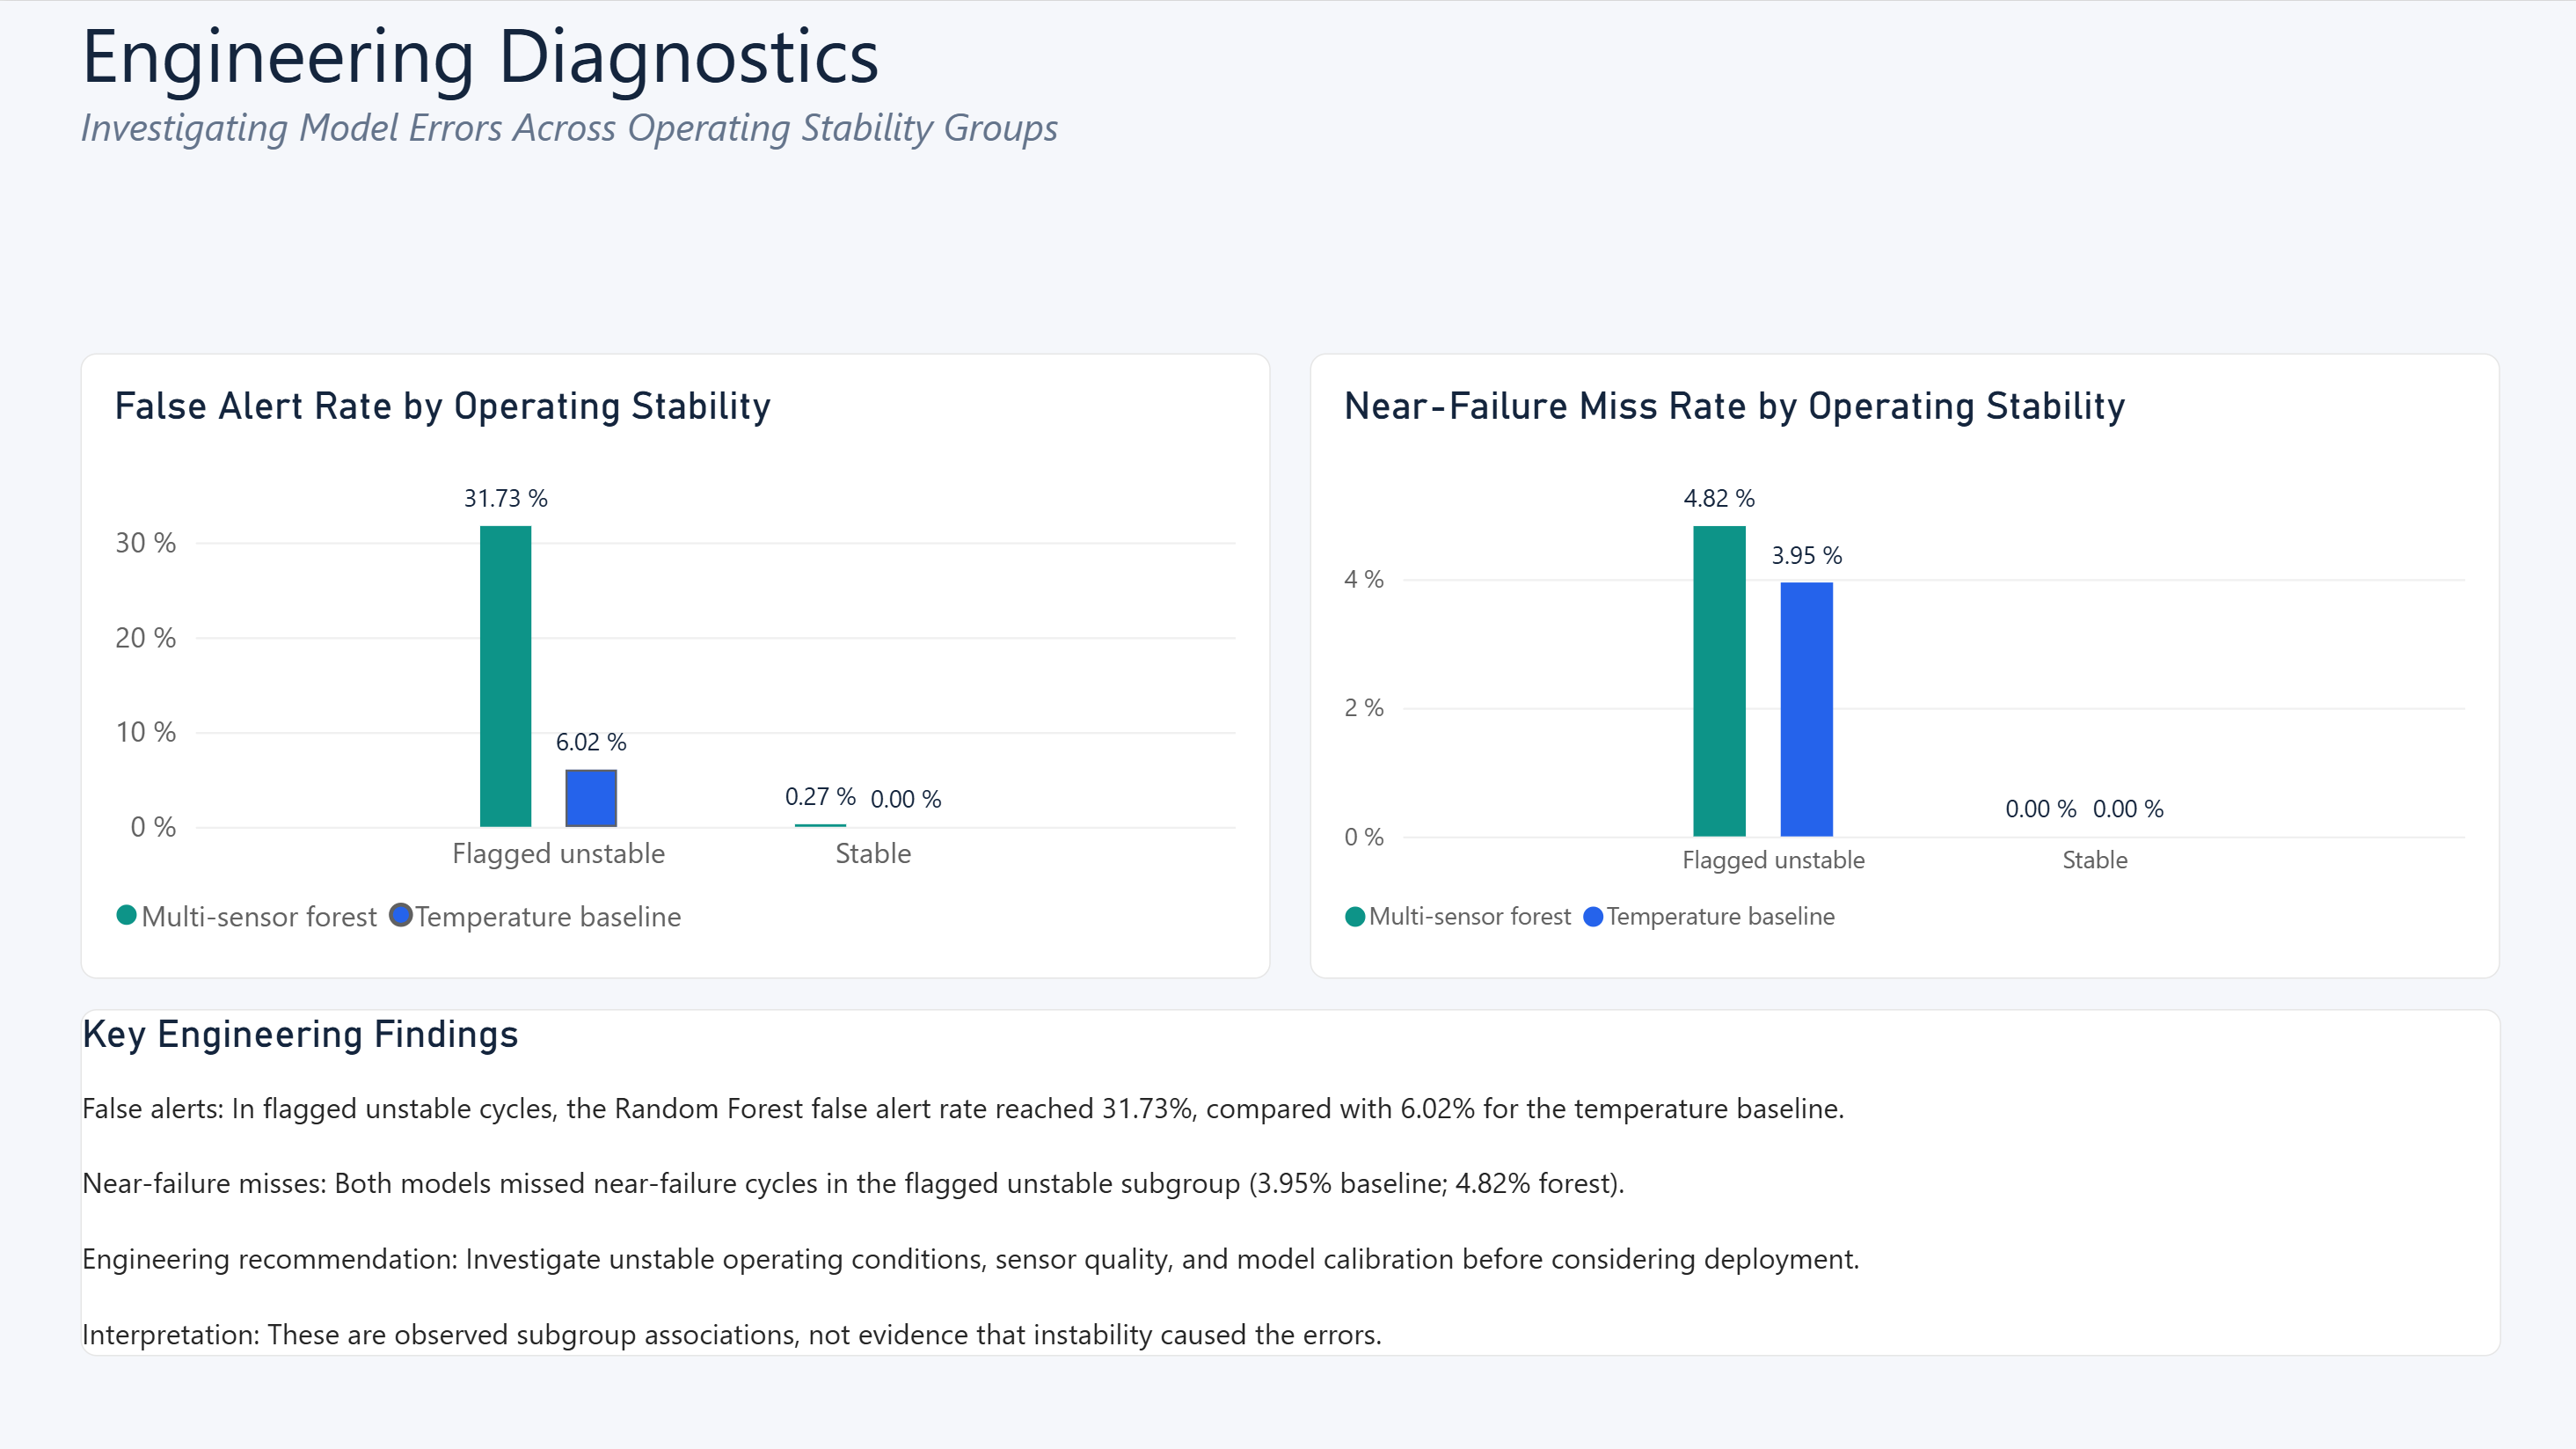

What the dashboard file says about the page in this screenshot:
{"tool":"powerbi","page":{"name":"04 Engineering Diagnostics","canvas":[1280,720],"ordinal":3},"visuals":[{"type":"textbox","box":[39.7,0,582,85.9],"z":0},{"type":"clusteredColumnChart","title":"False Alert Rate by Operating Stability","fields":{"Category":["subgroup_comparison.Stability Group"],"Series":["subgroup_comparison.model"],"Y":["Analytics Measures.Subgroup False Alert Rate"]},"box":[39.7,174.7,590,310],"z":1},{"type":"clusteredColumnChart","title":"Near-Failure Miss Rate by Operating Stability","fields":{"Category":["subgroup_comparison.Stability Group"],"Series":["subgroup_comparison.model"],"Y":["Analytics Measures.Subgroup Near-Failure Miss Rate"]},"box":[649.2,174.7,589.9,309.8],"z":2},{"type":"textbox","title":"Key Engineering Findings","box":[39.7,499.7,1200.1,171.9],"z":3}]}

Visuals, with their boxes in screenshot pixels (x1, y1, x2, y2), scaled from the page's 1280x720 canvas onto the 2576x1449 screenshot:
textbox: locate(80, 0, 1252, 172)
"False Alert Rate by Operating Stability" clusteredColumnChart: locate(80, 352, 1267, 976)
"Near-Failure Miss Rate by Operating Stability" clusteredColumnChart: locate(1307, 352, 2493, 975)
"Key Engineering Findings" textbox: locate(80, 1006, 2495, 1351)
